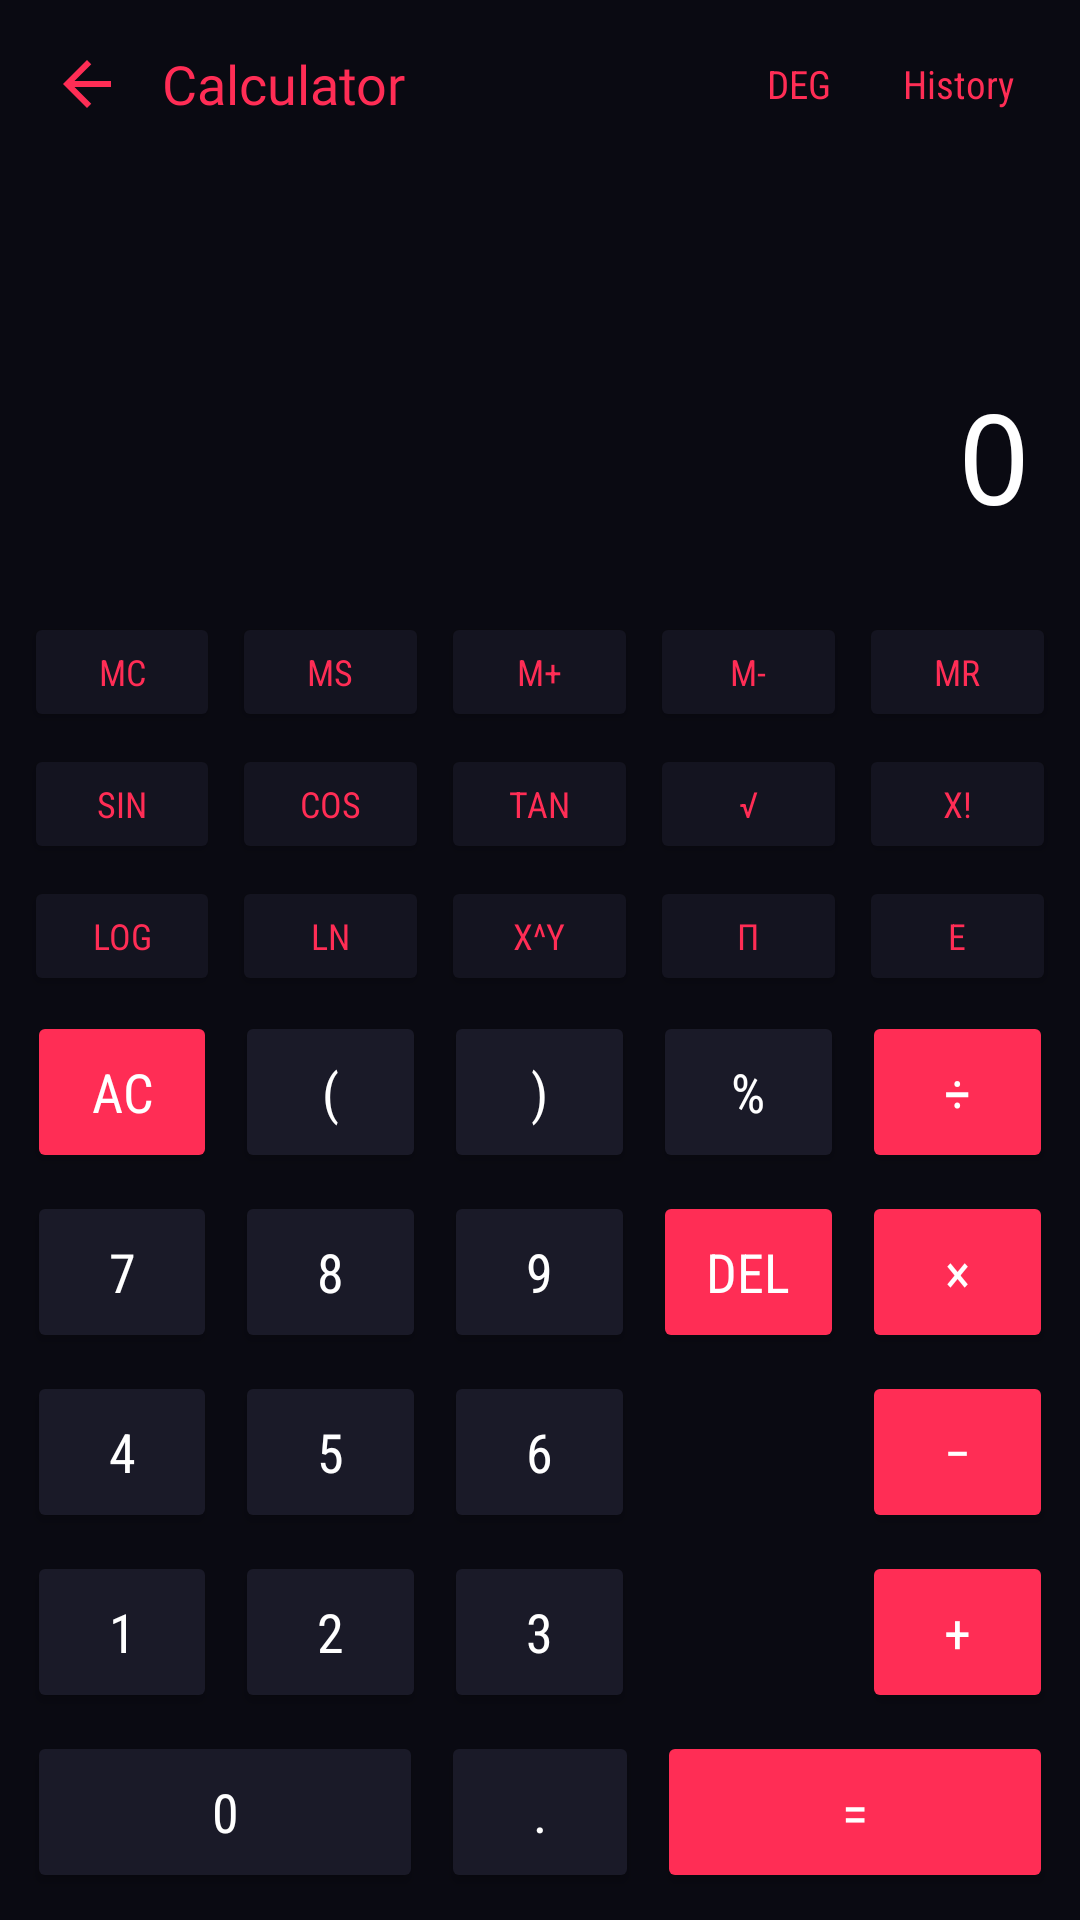

Named icons in this screenshot (1080px x 1920px) and their bounding boxes, region(x1, y1, x2, y2):
Back: region(63, 60, 111, 108)
